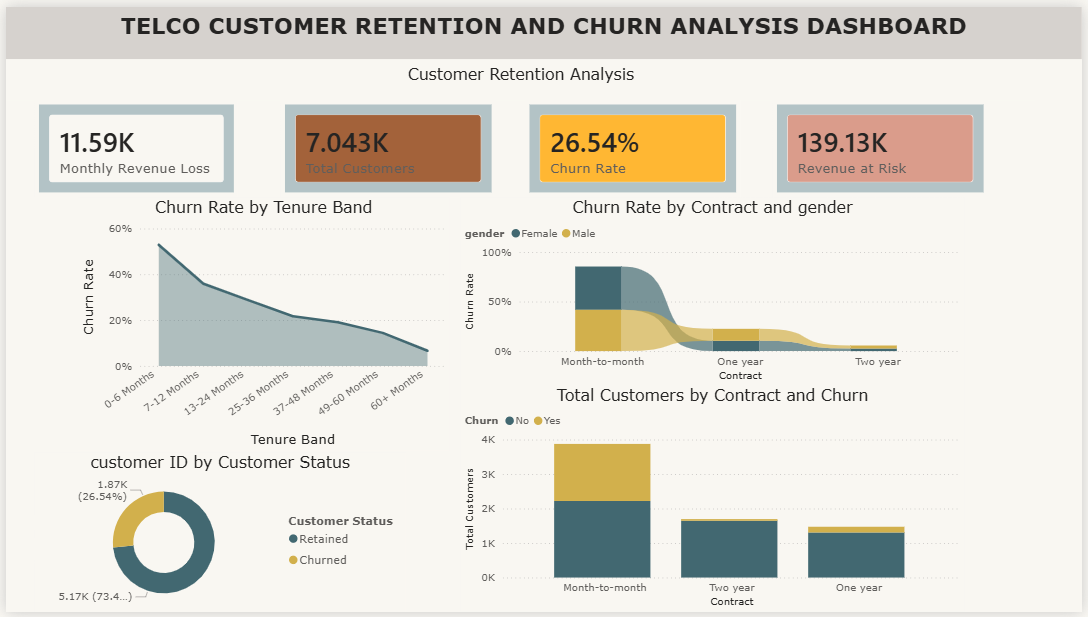

Layout of this report page (visuals, bound fields, positions):
{"tool":"powerbi","page":{"name":"Page 1","canvas":[1280,720],"ordinal":0},"visuals":[{"type":"textbox","box":[0,0,1280.4,62],"z":0},{"type":"textbox","box":[0,62.3,1226.1,49.3],"z":1000},{"type":"cardVisual","fields":{"Data":["WA_Fn-UseC_-Telco-Customer-Chur.Total Customers"]},"box":[327.5,111.6,256.5,115.9],"z":2000},{"type":"cardVisual","fields":{"Data":["WA_Fn-UseC_-Telco-Customer-Chur.Churn Rate"]},"box":[617.4,111.6,256.5,115.9],"z":3000},{"type":"cardVisual","fields":{"Data":["WA_Fn-UseC_-Telco-Customer-Chur.Revenue at Risk"]},"box":[913,111.6,256.5,115.9],"z":4000},{"type":"stackedAreaChart","fields":{"Category":["WA_Fn-UseC_-Telco-Customer-Chur.Tenure Band"],"Y":["WA_Fn-UseC_-Telco-Customer-Chur.Churn Rate"]},"box":[85.5,227.5,442,301.4],"z":5000},{"type":"ribbonChart","fields":{"Category":["WA_Fn-UseC_-Telco-Customer-Chur.Contract"],"Y":["WA_Fn-UseC_-Telco-Customer-Chur.Churn Rate"],"Series":["WA_Fn-UseC_-Telco-Customer-Chur.gender"]},"box":[540.6,227.5,600,223.2],"z":6000},{"type":"donutChart","title":"customer ID by Customer Status","fields":{"Category":["WA_Fn-UseC_-Telco-Customer-Chur.Customer Status"],"Y":["CountNonNull(WA_Fn-UseC_-Telco-Customer-Chur.customerID)"]},"box":[33.4,529.7,442.2,190.9],"z":7000},{"type":"columnChart","fields":{"Y":["WA_Fn-UseC_-Telco-Customer-Chur.Total Customers"],"Category":["WA_Fn-UseC_-Telco-Customer-Chur.Contract"],"Series":["WA_Fn-UseC_-Telco-Customer-Chur.Churn"]},"box":[540.6,450.7,600,269.6],"z":8000},{"type":"cardVisual","fields":{"Data":["WA_Fn-UseC_-Telco-Customer-Chur.Monthly Revenue Loss"]},"box":[33.3,111.6,242,115.9],"z":9000}]}

Visuals, with their boxes in screenshot pixels (x1, y1, x2, y2), scaled from the page's 1280x720 canvas onto the 1088x617 screenshot:
textbox: detection(0, 0, 1087, 53)
textbox: detection(0, 53, 1042, 96)
cardVisual - WA_Fn-UseC_-Telco-Customer-Chur.Total Customers: detection(278, 96, 496, 195)
cardVisual - WA_Fn-UseC_-Telco-Customer-Chur.Churn Rate: detection(525, 96, 743, 195)
cardVisual - WA_Fn-UseC_-Telco-Customer-Chur.Revenue at Risk: detection(776, 96, 994, 195)
stackedAreaChart - WA_Fn-UseC_-Telco-Customer-Chur.Tenure Band x WA_Fn-UseC_-Telco-Customer-Chur.Churn Rate: detection(73, 195, 448, 453)
ribbonChart - WA_Fn-UseC_-Telco-Customer-Chur.Contract x WA_Fn-UseC_-Telco-Customer-Chur.Churn Rate: detection(460, 195, 970, 386)
"customer ID by Customer Status" donutChart: detection(28, 454, 404, 616)
columnChart - WA_Fn-UseC_-Telco-Customer-Chur.Total Customers x WA_Fn-UseC_-Telco-Customer-Chur.Contract: detection(460, 386, 970, 616)
cardVisual - WA_Fn-UseC_-Telco-Customer-Chur.Monthly Revenue Loss: detection(28, 96, 234, 195)
